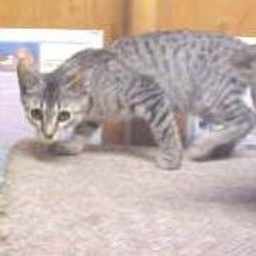cat: (13, 25, 256, 175)
